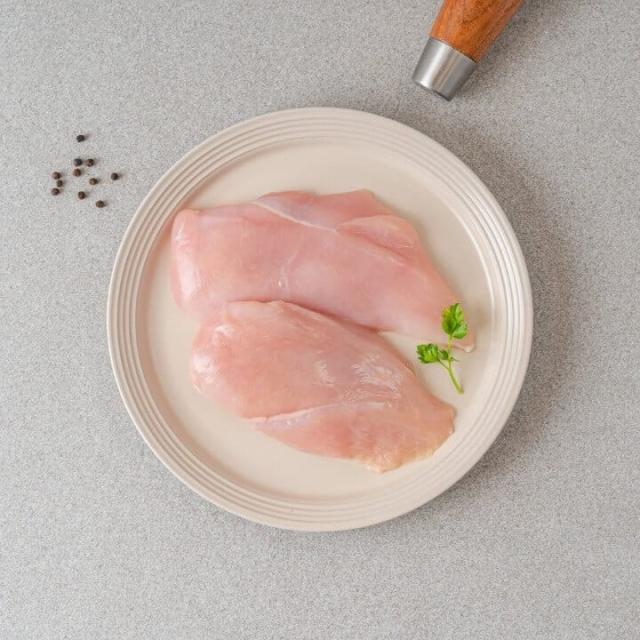chicken: (178, 290, 458, 472), (165, 188, 487, 346)
